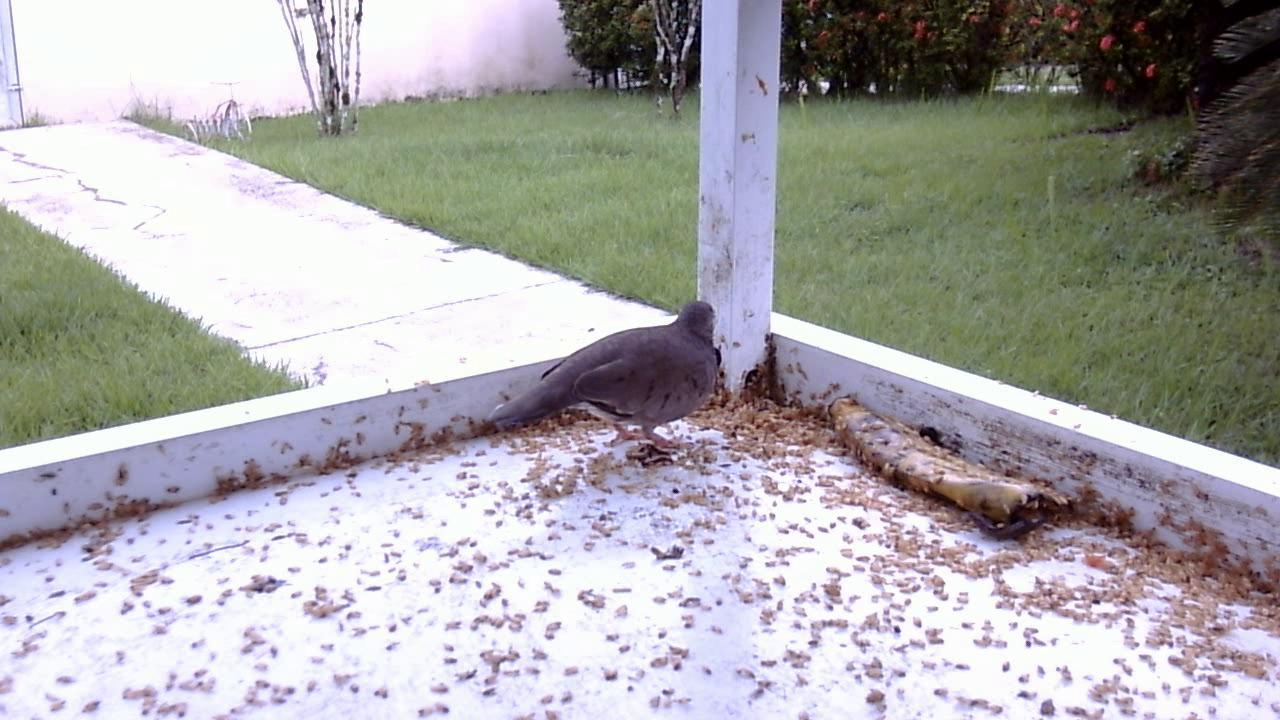rolinha: (480, 289, 729, 474)
